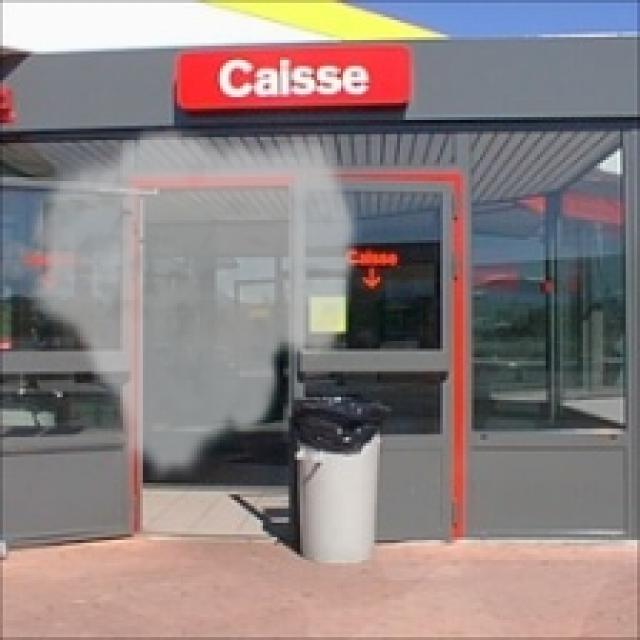smoke: (20, 123, 363, 486)
